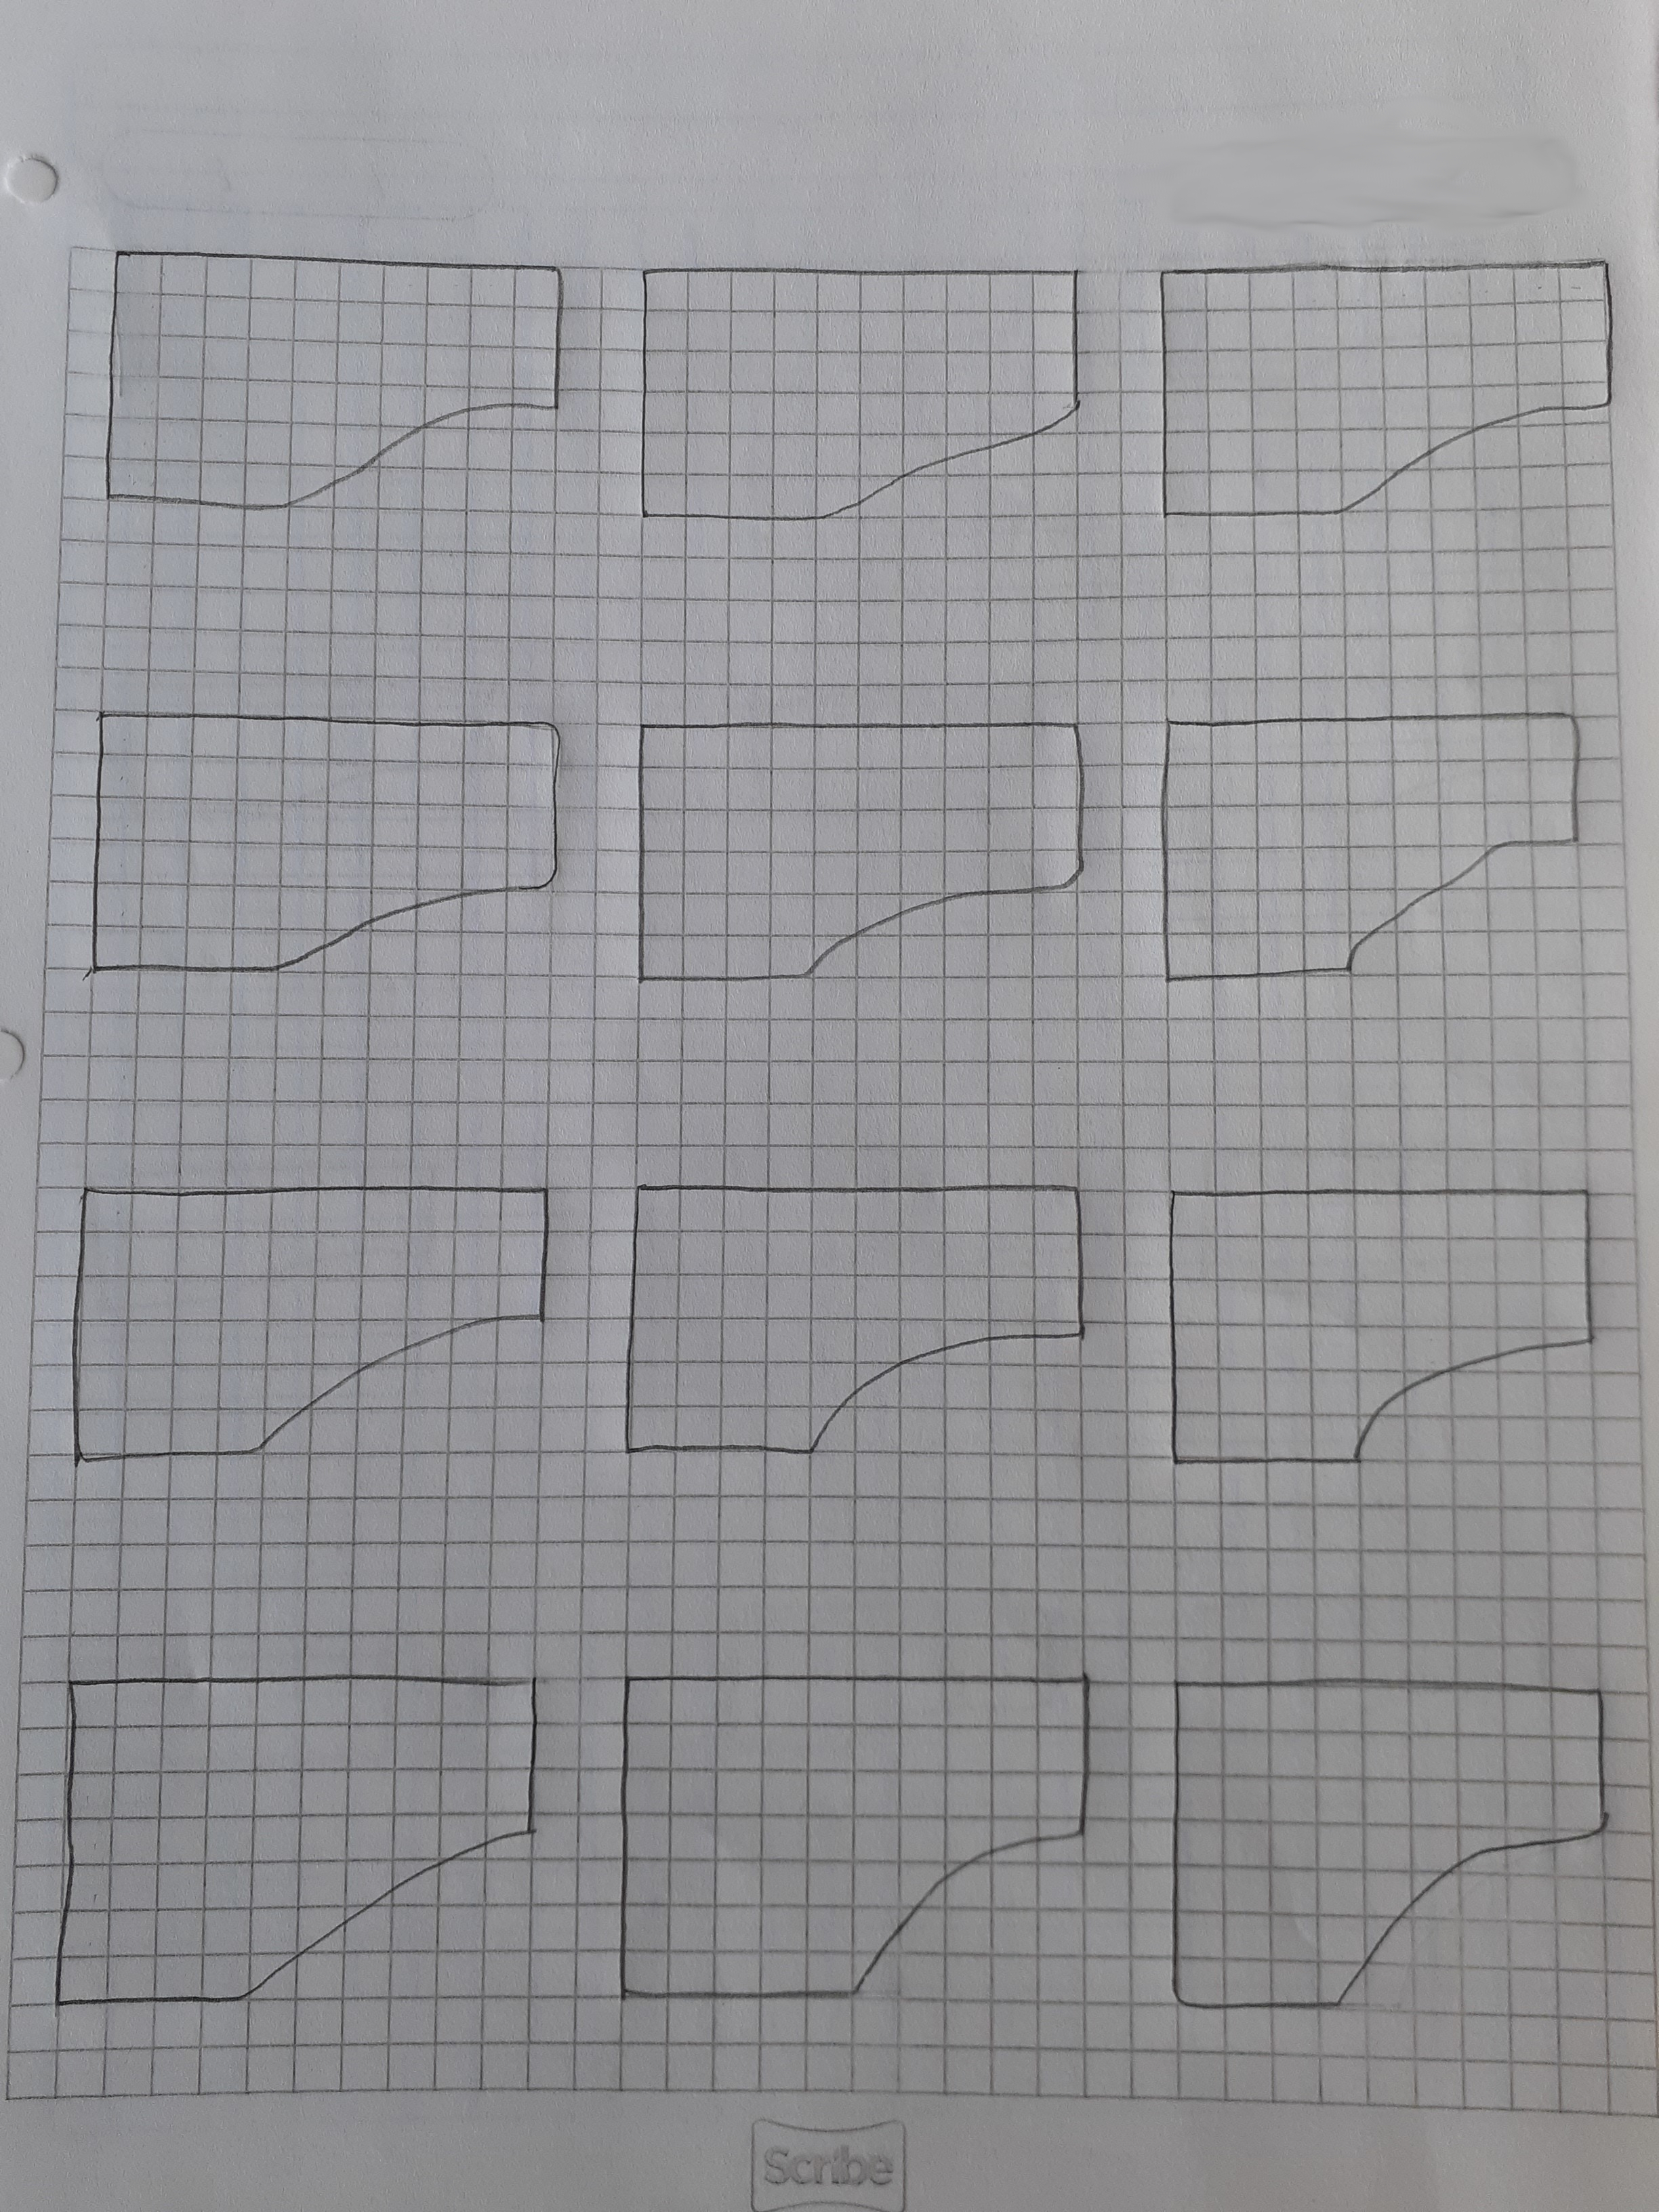print: (35, 1648, 570, 2038), (606, 1637, 1112, 2034), (49, 1146, 580, 1482), (1155, 1651, 1631, 2020), (613, 1160, 1098, 1493), (624, 669, 1119, 991), (1143, 239, 1643, 554), (78, 218, 580, 523), (68, 690, 577, 988), (620, 218, 1091, 536), (1147, 1150, 1607, 1472), (1147, 686, 1614, 995)
